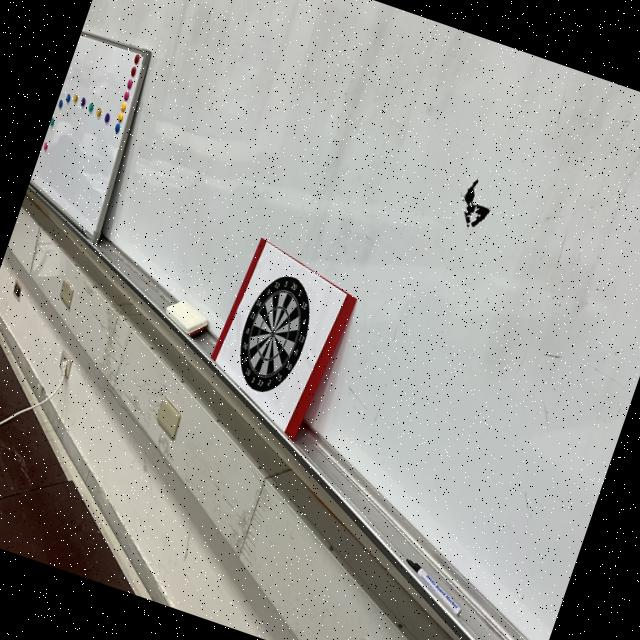archery-targets: (222, 264, 327, 404)
